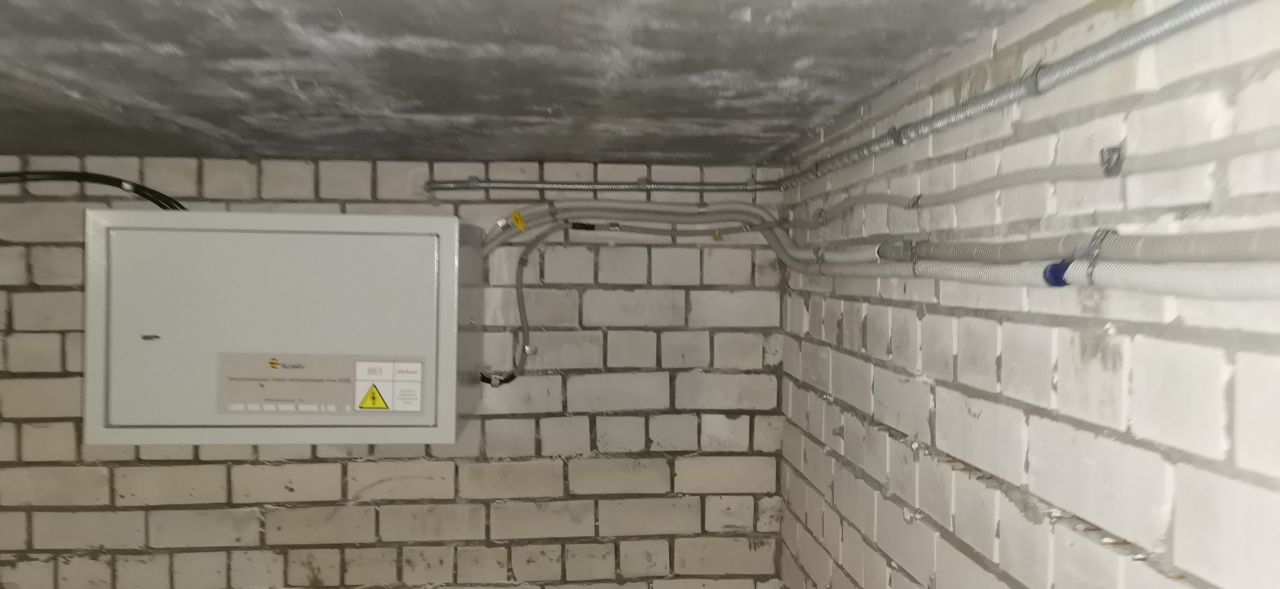shta-7m: (68, 196, 489, 455)
